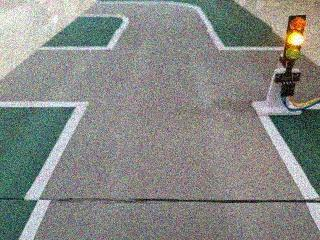yellow: (272, 5, 316, 69)
